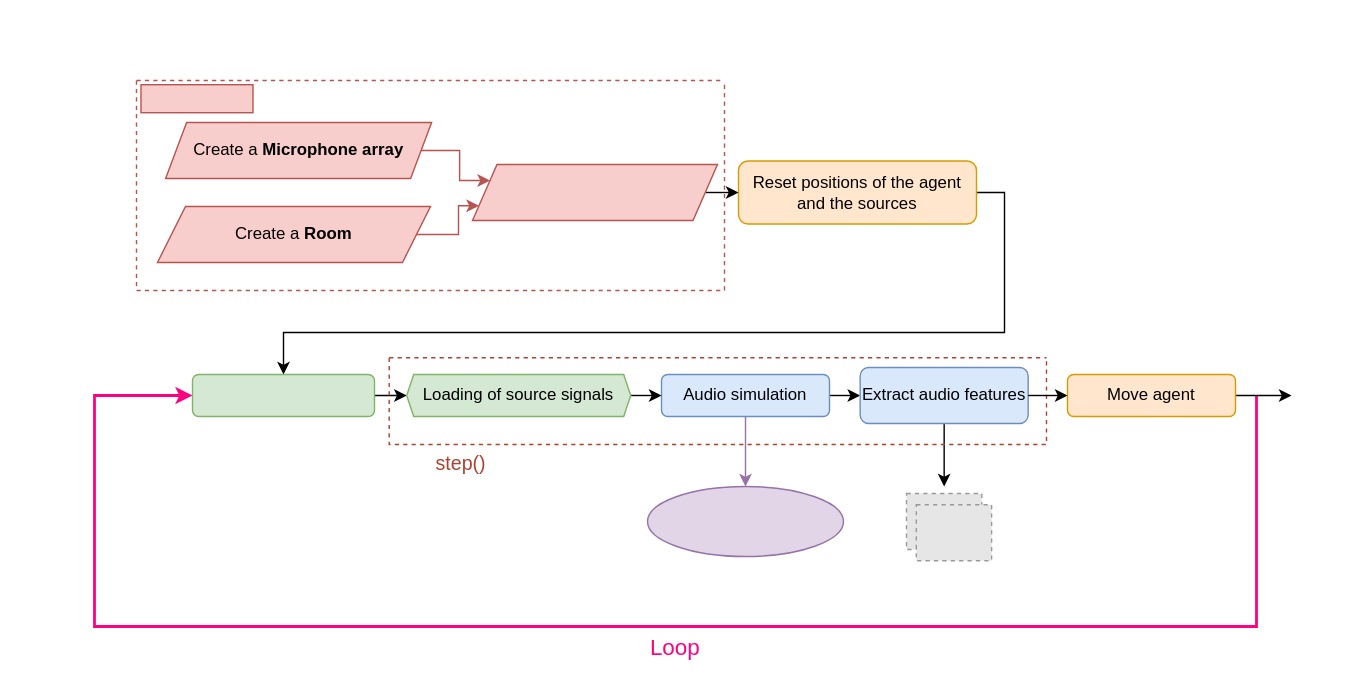
Some shapes in this 1350 by 692 pixel diagram are drawn without their labels. Grey dashed boxes stand in for pictures. The box of each missing label's shape, as (x1, y1, x2, y2) in pixels:
Initialization: (140, 83, 253, 113)
Instanciate the Simulator: (471, 163, 718, 220)
Listen to produced audio: (646, 485, 844, 556)
Select active sources: (191, 373, 374, 416)
